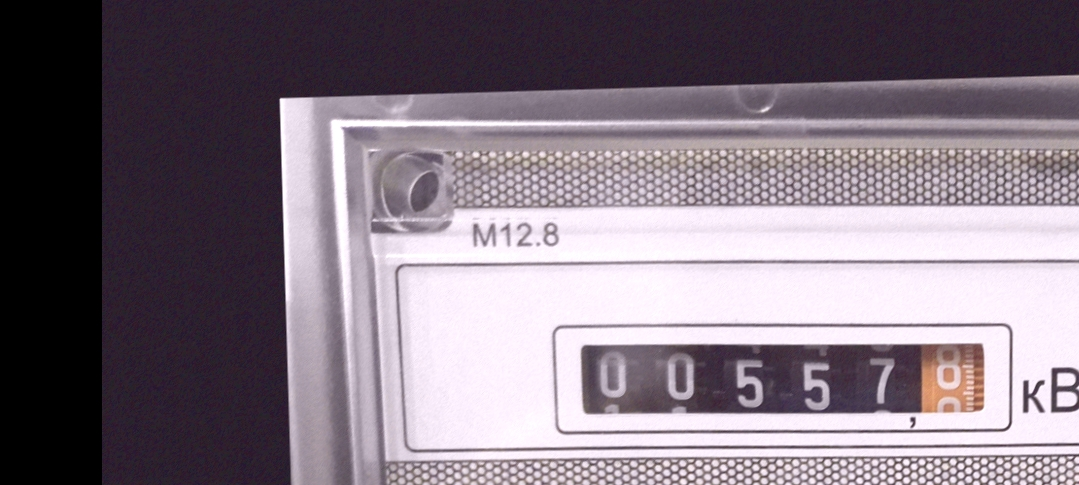0: (595, 346, 631, 404), (663, 350, 698, 403)
5: (798, 355, 837, 415), (732, 355, 768, 412)
7: (863, 353, 898, 409)
8: (934, 344, 964, 394)
screen: (548, 305, 1020, 450)
